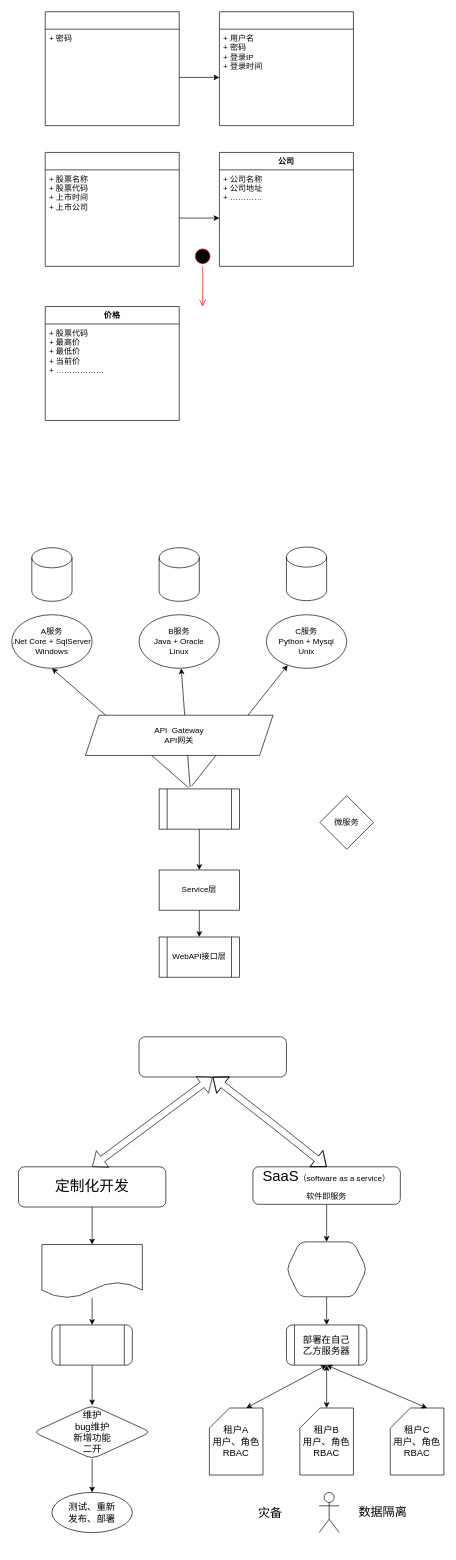
Image size: 456x1560. Some labels were removed from this diagram. Here are the shapes that lost their labels. From the top down, the box of each, then its label:
(45, 11, 179, 126): 密码表
(219, 11, 353, 126): 登录
(45, 152, 179, 266): 股票
(158, 788, 240, 829): Repository仓储层
(138, 1036, 286, 1077): 软件公司（OA）
(41, 1244, 142, 1298): 梳理用户需求，设计界面原型，定制开发
(286, 1241, 367, 1297): OA （大而全） 角色、用户
(51, 1324, 132, 1365): 部署到甲方服务器
(318, 1492, 339, 1533): Actor
